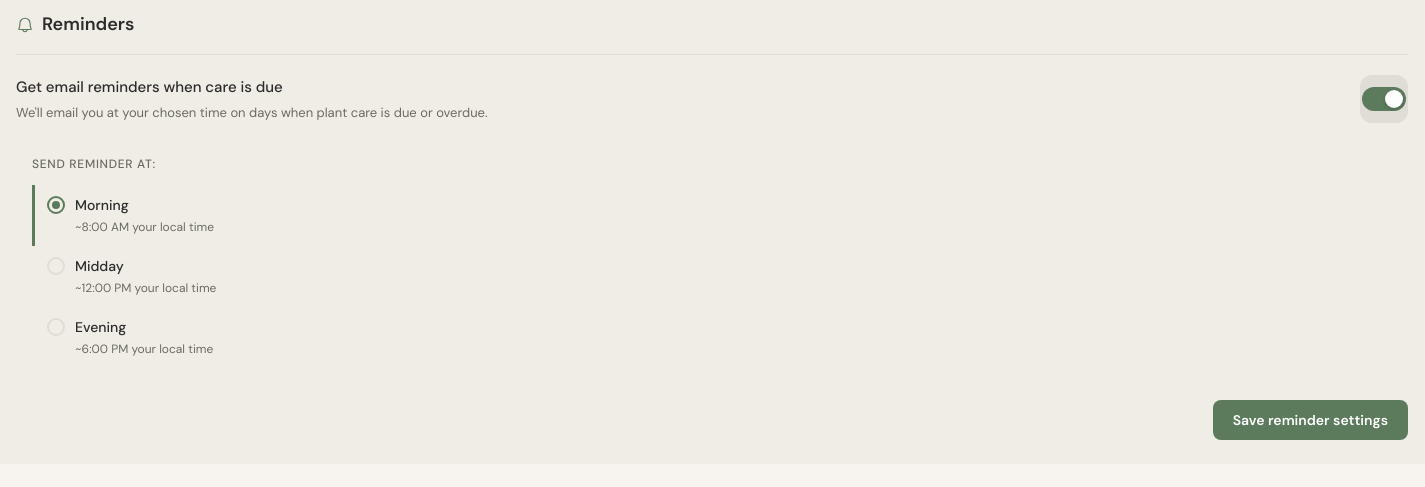
it: RemindersSection › shows save error on API failure
Click the button "Save reminder settings" at (1310, 420), box [1213,400,1408,440]
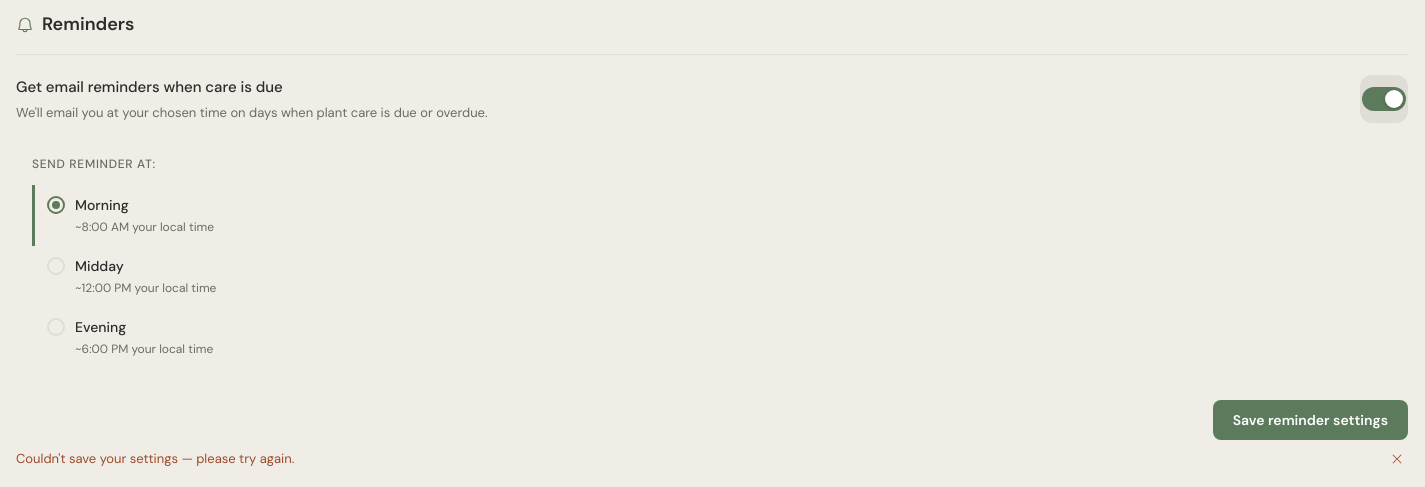
Now the message "Couldn't save your settings — please try again." is shown, box [16,448,1408,470]
Now the text "Couldn't save your settings — please try again." is shown, box [16,449,294,469]
